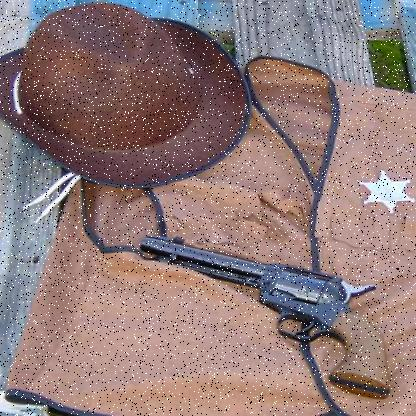pistol: (141, 233, 393, 400)
